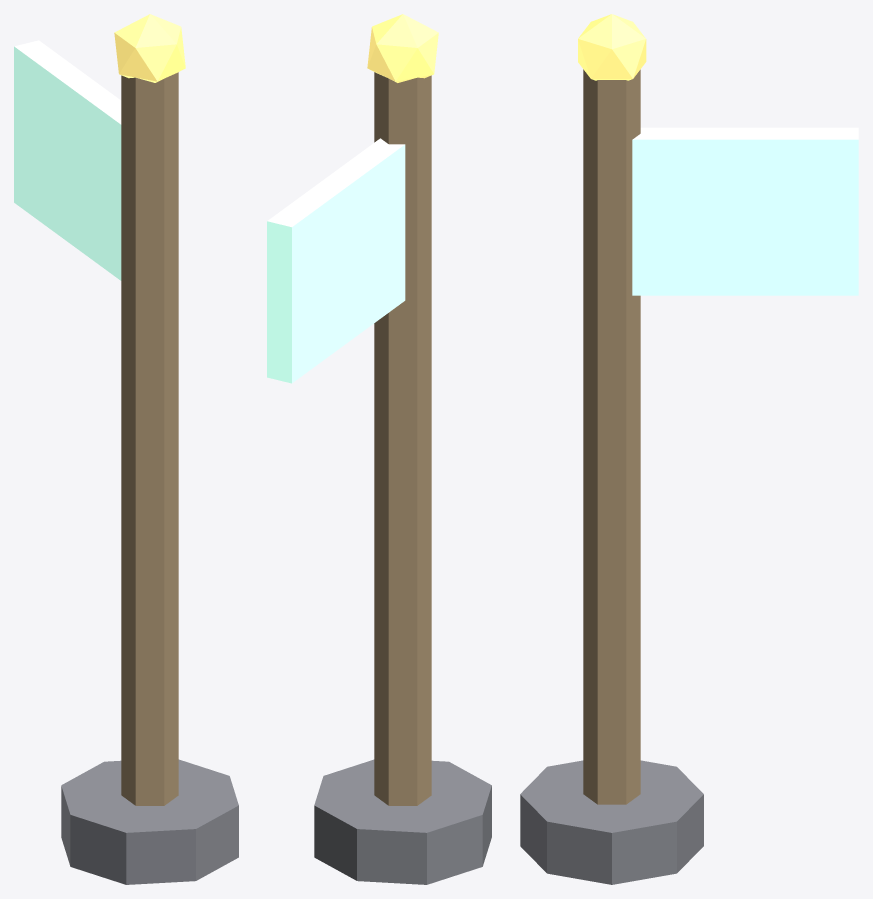
The model's file is flag.glb.
3 views of the same model, side by side, from view 1: azimuth 30°, elevation 25°; view 2: azimuth 150°, elevation 25°; view 3: azimuth 270°, elevation 25° (orthographic).
Parts seen in each view (by area): view 1: FlagPole; view 2: FlagPole; view 3: FlagPole.
Boxes of the visible parts, left/top/right/bottom form: FlagPole: left=14, top=14, right=238, bottom=884; FlagPole: left=267, top=14, right=491, bottom=884; FlagPole: left=520, top=14, right=858, bottom=884.
Bounding box in the file's own units: 0.32 × 1.6 × 0.59.
